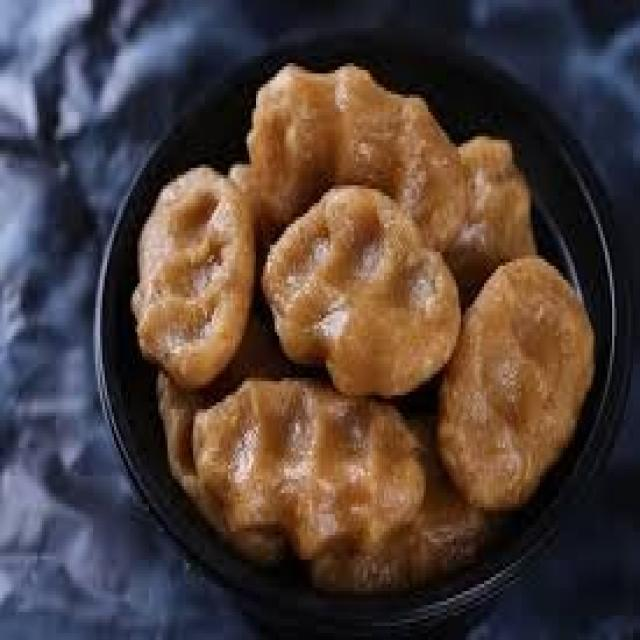pidi kolukattai: (132, 61, 580, 570)
